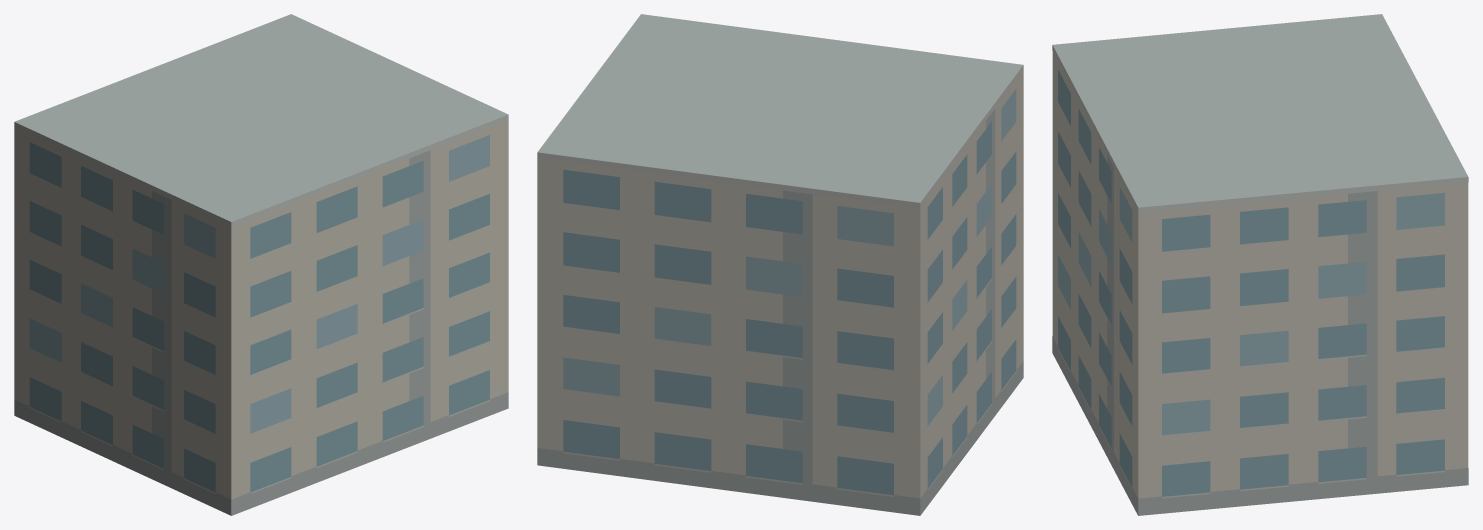
File: survey-upis-32913828.glb
The picture shows the model from 3 angles, left to right: view 1: azimuth 30°, elevation 25°; view 2: azimuth 150°, elevation 25°; view 3: azimuth 270°, elevation 25°; orthographic projection. The views are drawn at different scales.
Parts seen in each view (by area): view 1: survey-upis-32913828.tmp; view 2: survey-upis-32913828.tmp; view 3: survey-upis-32913828.tmp.
Boxes of the visible parts, x1,y1,x2,y2 form: survey-upis-32913828.tmp: [14, 14, 508, 515]; survey-upis-32913828.tmp: [537, 14, 1023, 515]; survey-upis-32913828.tmp: [1052, 14, 1468, 515].
Size of the model in its own units: 17.93 by 13.3 by 16.28.
